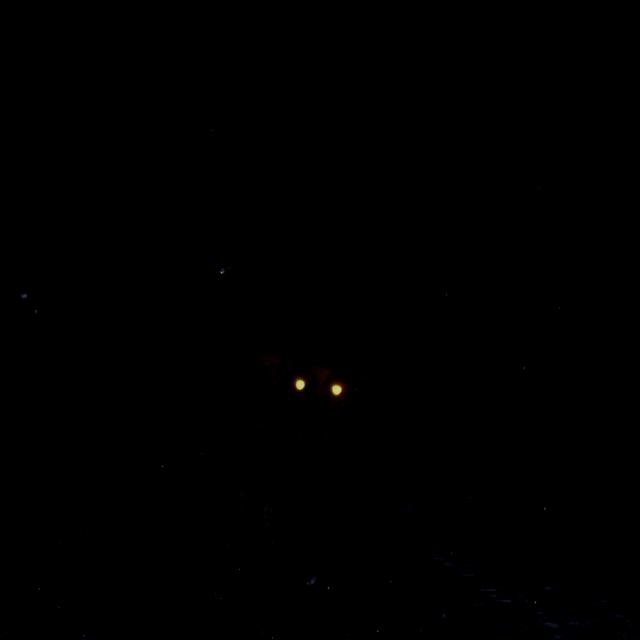Dog: (188, 292, 434, 569)
